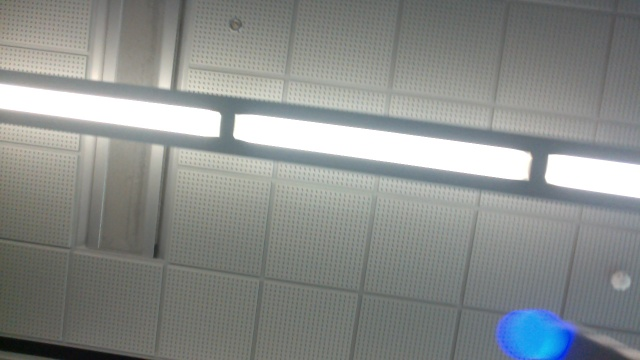wand: (500, 309, 566, 360)
